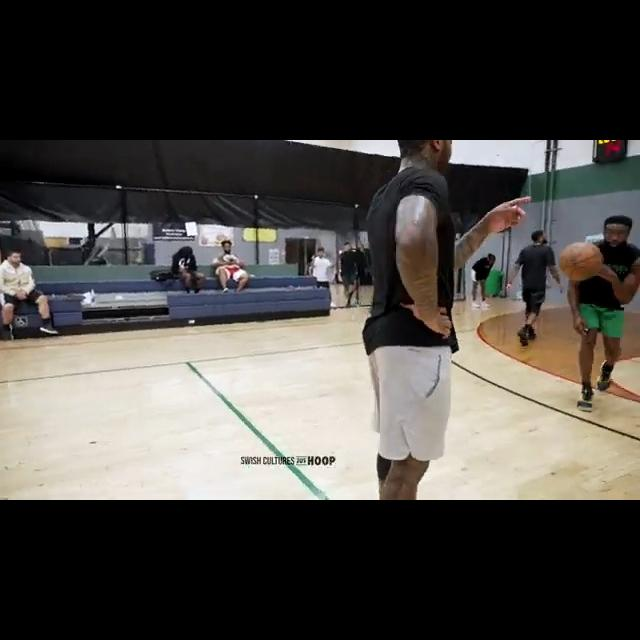basketball: (557, 241, 604, 281)
